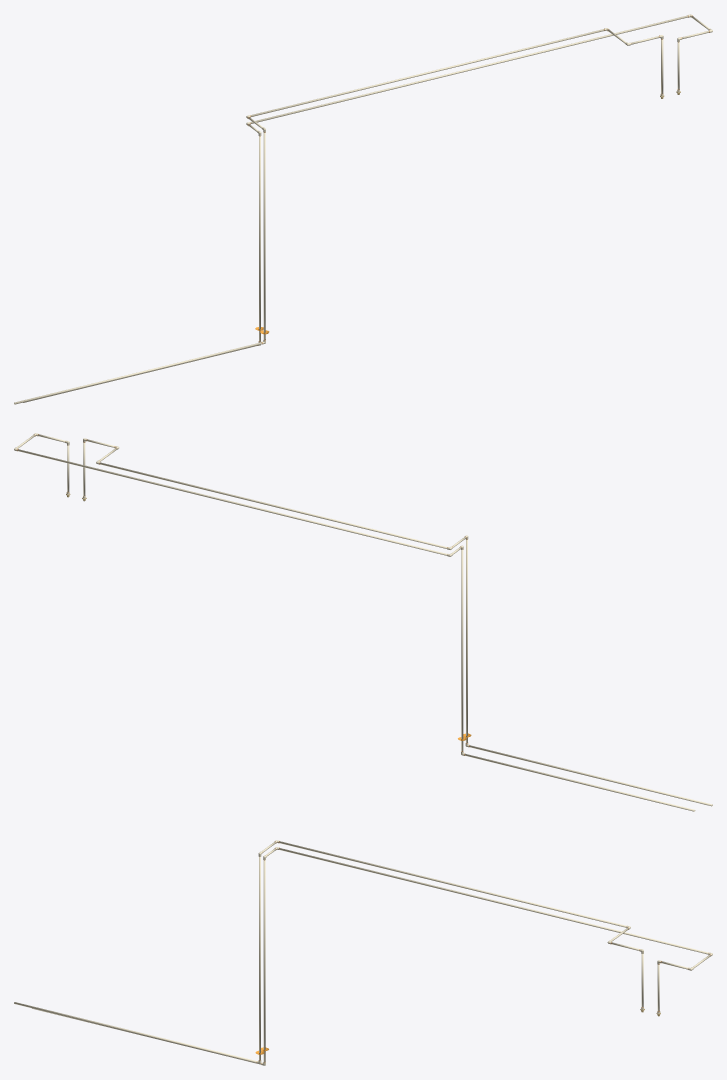
The model's file is pipes_supply__water_heater-garage_hybrid+garage_gas_tank_and_plumbing-cpvc.glb.
3 renders of one model, top to bottom at view 1: azimuth 30°, elevation 25°; view 2: azimuth 150°, elevation 25°; view 3: azimuth 330°, elevation 25°, orthographic.
Visible parts, largest first — view 1: pipe_supply_cold_wh_hybrid, pipe_supply_hot_wh_hybrid; view 2: pipe_supply_hot_wh_hybrid, pipe_supply_cold_wh_hybrid; view 3: pipe_supply_cold_wh_hybrid, pipe_supply_hot_wh_hybrid.
Boxes of the visible parts, box(x1,y1,x2,y2) form: pipe_supply_cold_wh_hybrid: box(14, 29, 663, 404); pipe_supply_hot_wh_hybrid: box(23, 15, 709, 402); pipe_supply_hot_wh_hybrid: box(17, 434, 695, 811); pipe_supply_cold_wh_hybrid: box(83, 439, 712, 806); pipe_supply_cold_wh_hybrid: box(14, 841, 643, 1062); pipe_supply_hot_wh_hybrid: box(32, 848, 710, 1064).
Bounding box in the file's own units: 8.43 × 2.56 × 0.4774.
